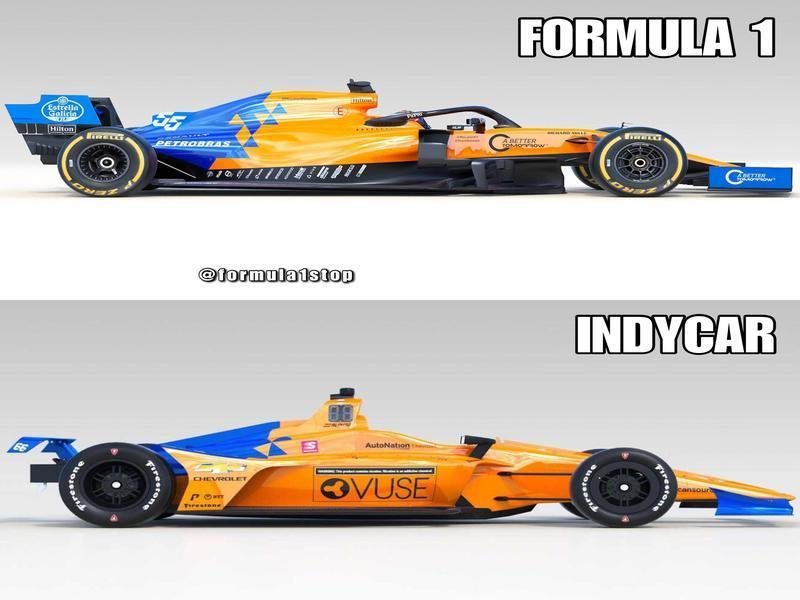f1: (13, 62, 800, 243)
